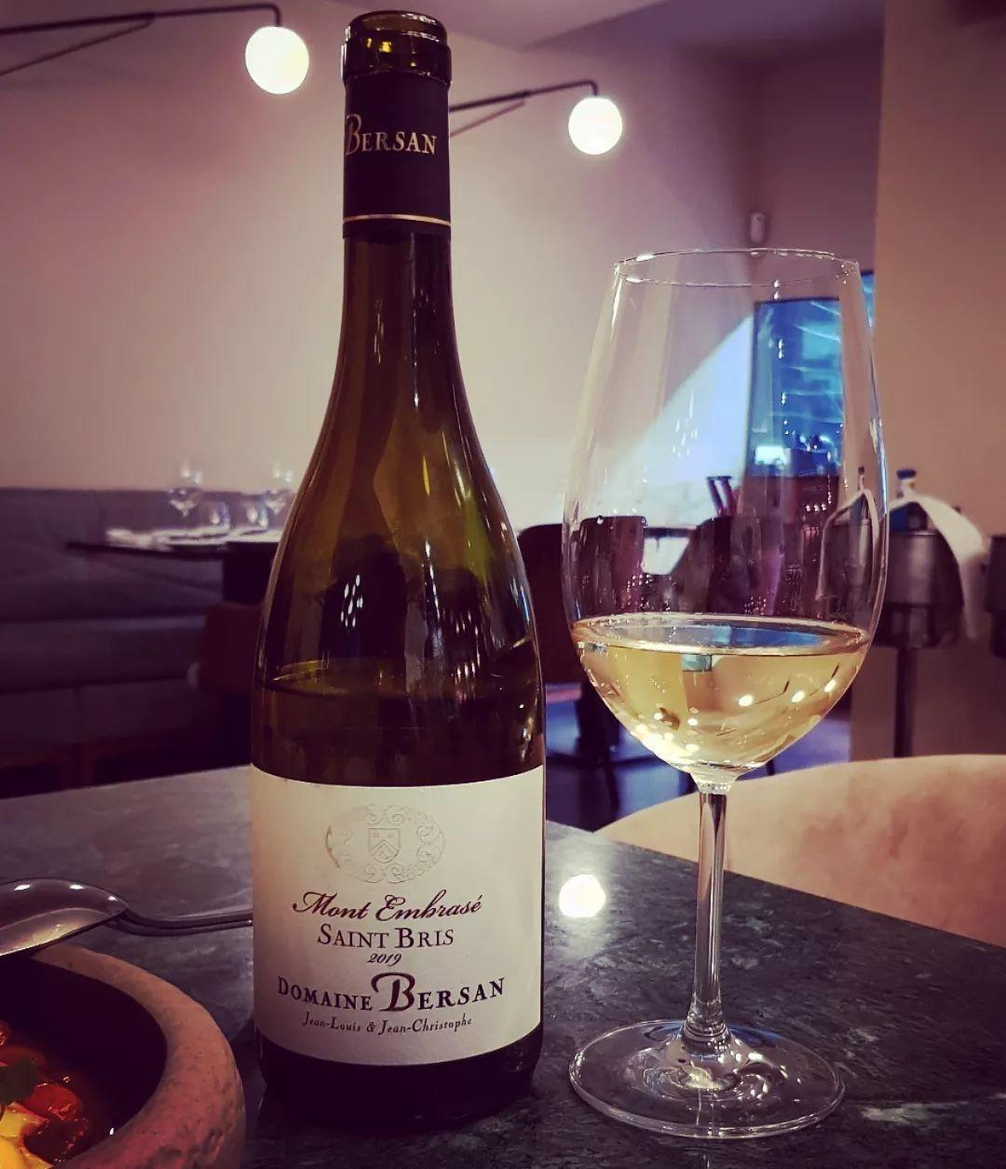bottle-glass: (231, 2, 562, 1108)
glass-wine: (545, 241, 918, 1156)
